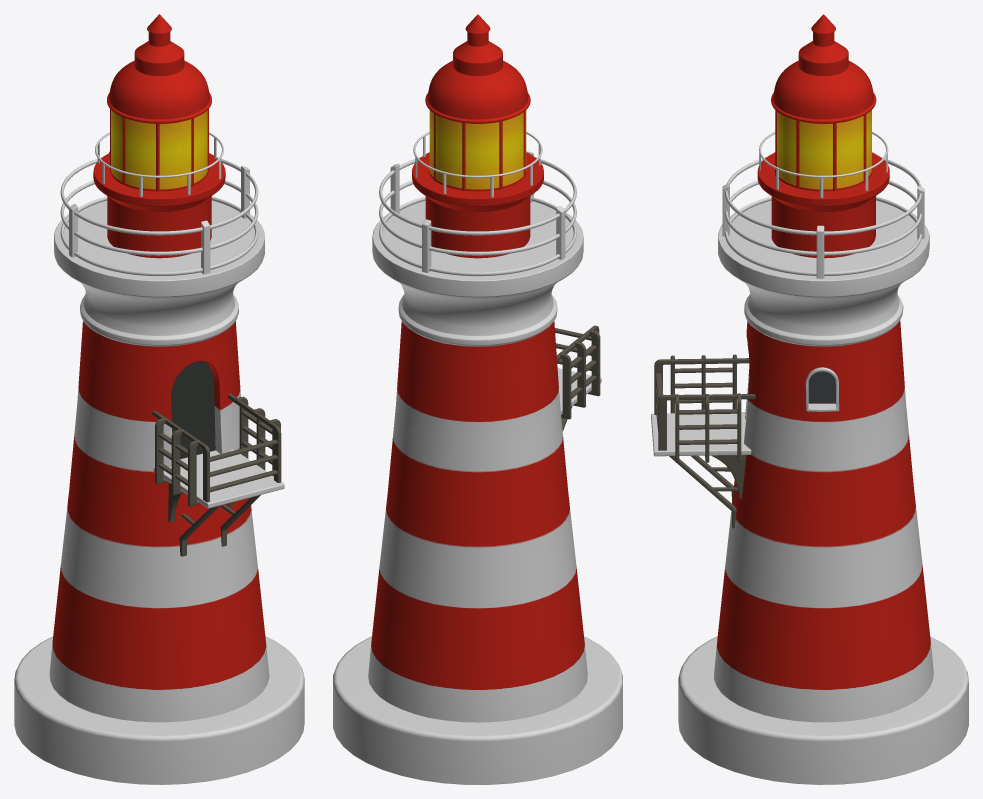
3 renders of one model, left to right at view 1: azimuth 30°, elevation 25°; view 2: azimuth 150°, elevation 25°; view 3: azimuth 270°, elevation 25°, orthographic.
Visible parts, largest first — view 1: node_id40; view 2: node_id40; view 3: node_id40.
Part boxes in pixels (x1=…): node_id40: x1=14, y1=14, x2=304, y2=784; node_id40: x1=333, y1=14, x2=622, y2=784; node_id40: x1=651, y1=14, x2=968, y2=784.
Bounding box in the file's own units: 0.19 × 0.512 × 0.2079.
1 material, 1 textured.
